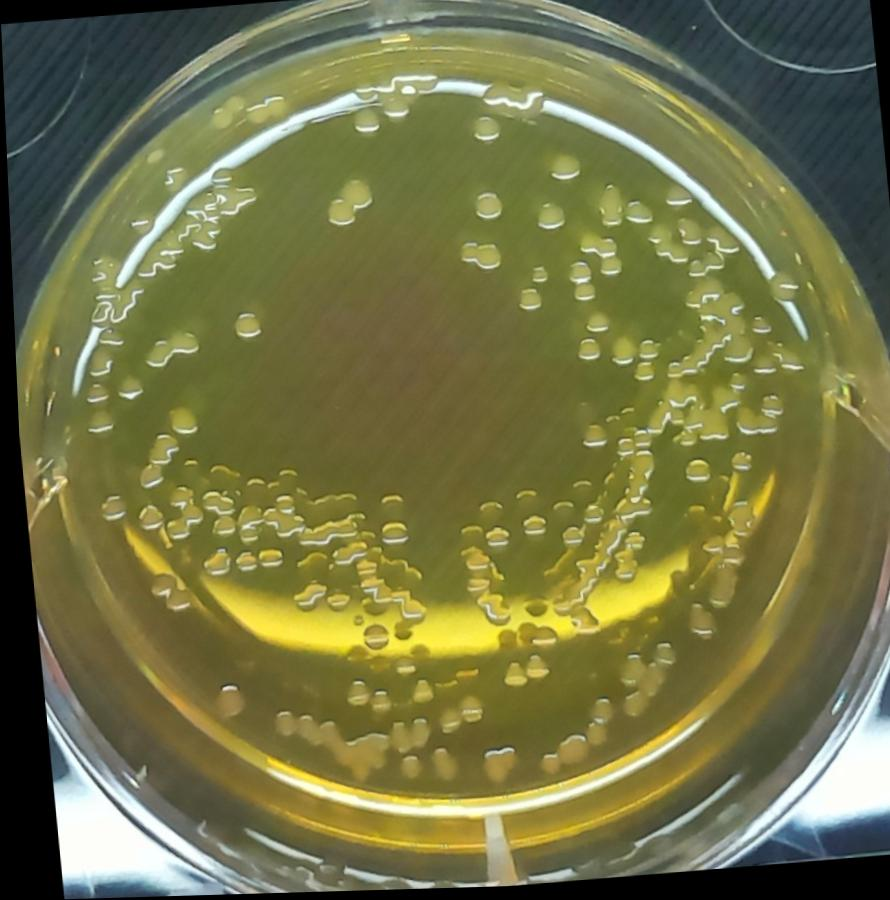vharveyi: (316, 173, 376, 235), (450, 230, 505, 283), (280, 576, 326, 619), (677, 600, 715, 650), (221, 304, 263, 347), (160, 397, 199, 443), (368, 513, 406, 553), (349, 620, 387, 659), (511, 510, 546, 546), (473, 522, 507, 558)
